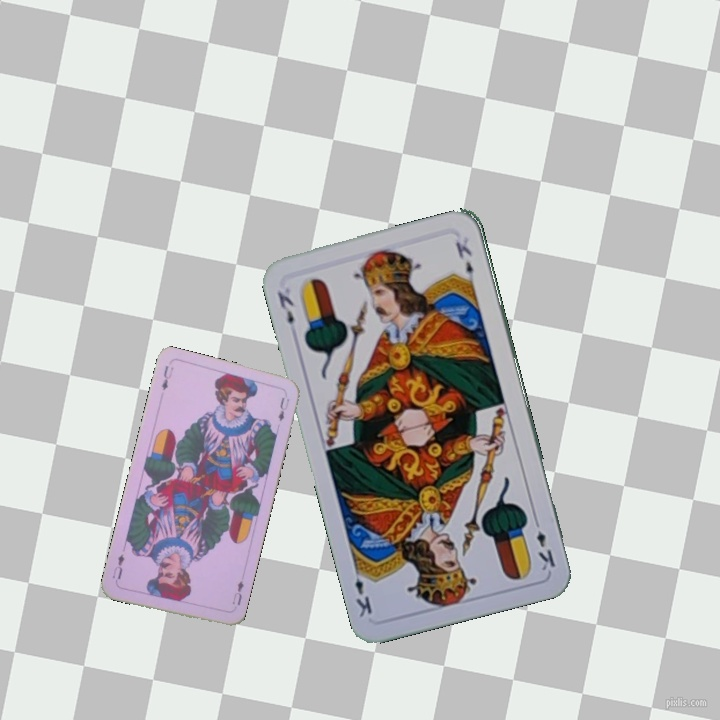EK: (530, 514, 558, 573), (273, 287, 297, 327)
EU: (228, 576, 246, 608), (158, 362, 176, 393)
